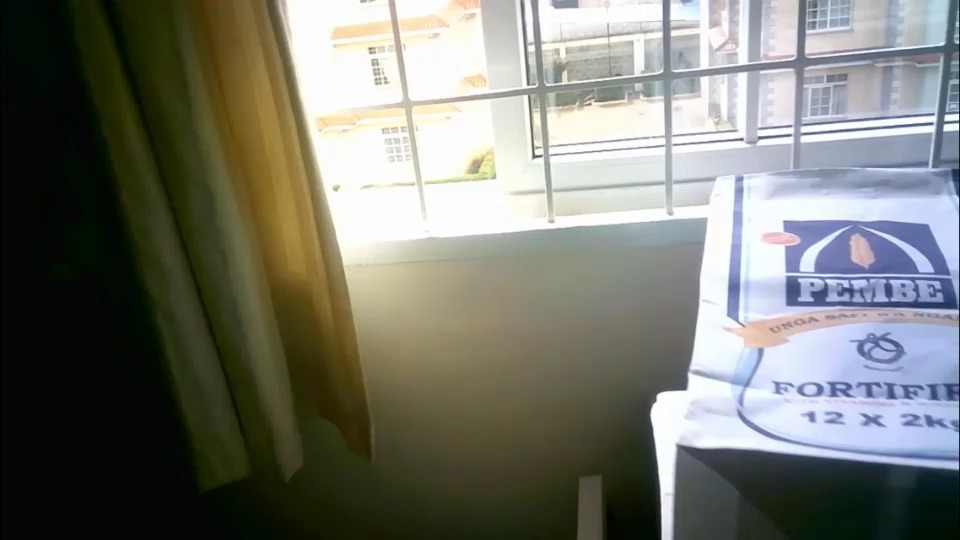wheat_flour_blue_label: (673, 169, 924, 540)
